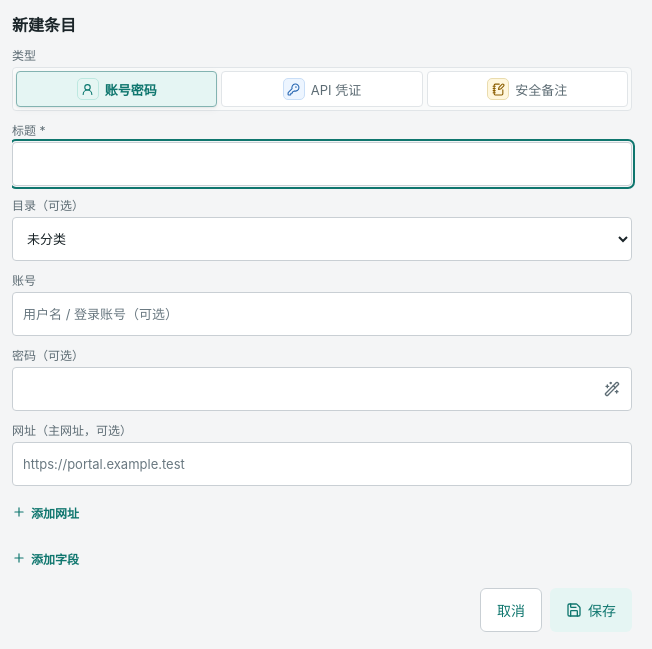
Scenario: ItemForm › still requires sensitive content for API credentials
Click the button "API 凭证": (322, 89) 221,71 -> 423,107
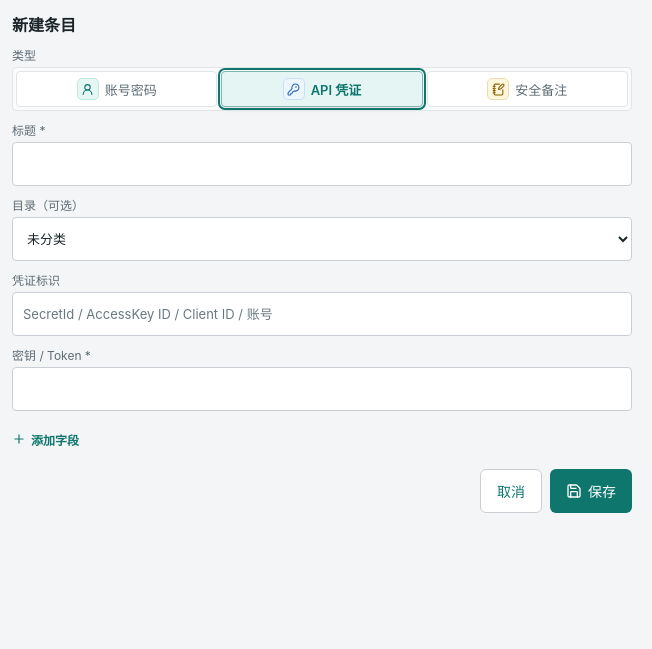
In the field labelled "标题 *": (322, 164) 12,142 -> 632,186, type "发布凭证"
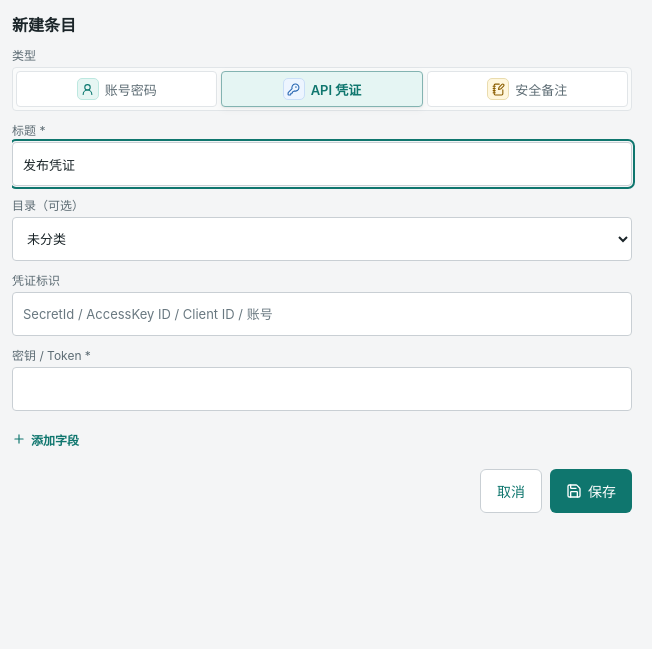
Click the button "保存": (591, 491) 550,469 -> 632,513
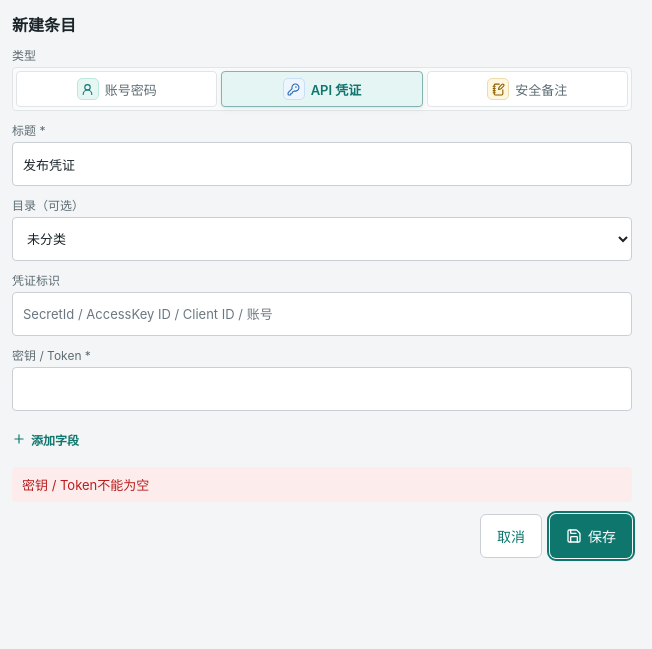
Now the message reads "密钥 / Token不能为空", box 22,477 -> 149,493
